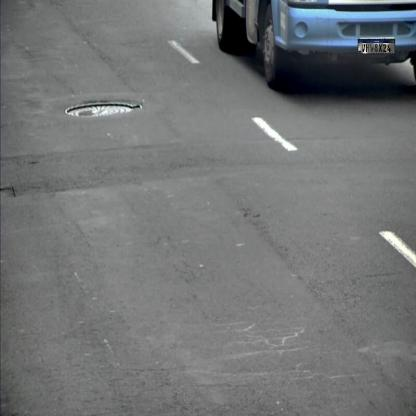PlacaM: (358, 39, 395, 54)
